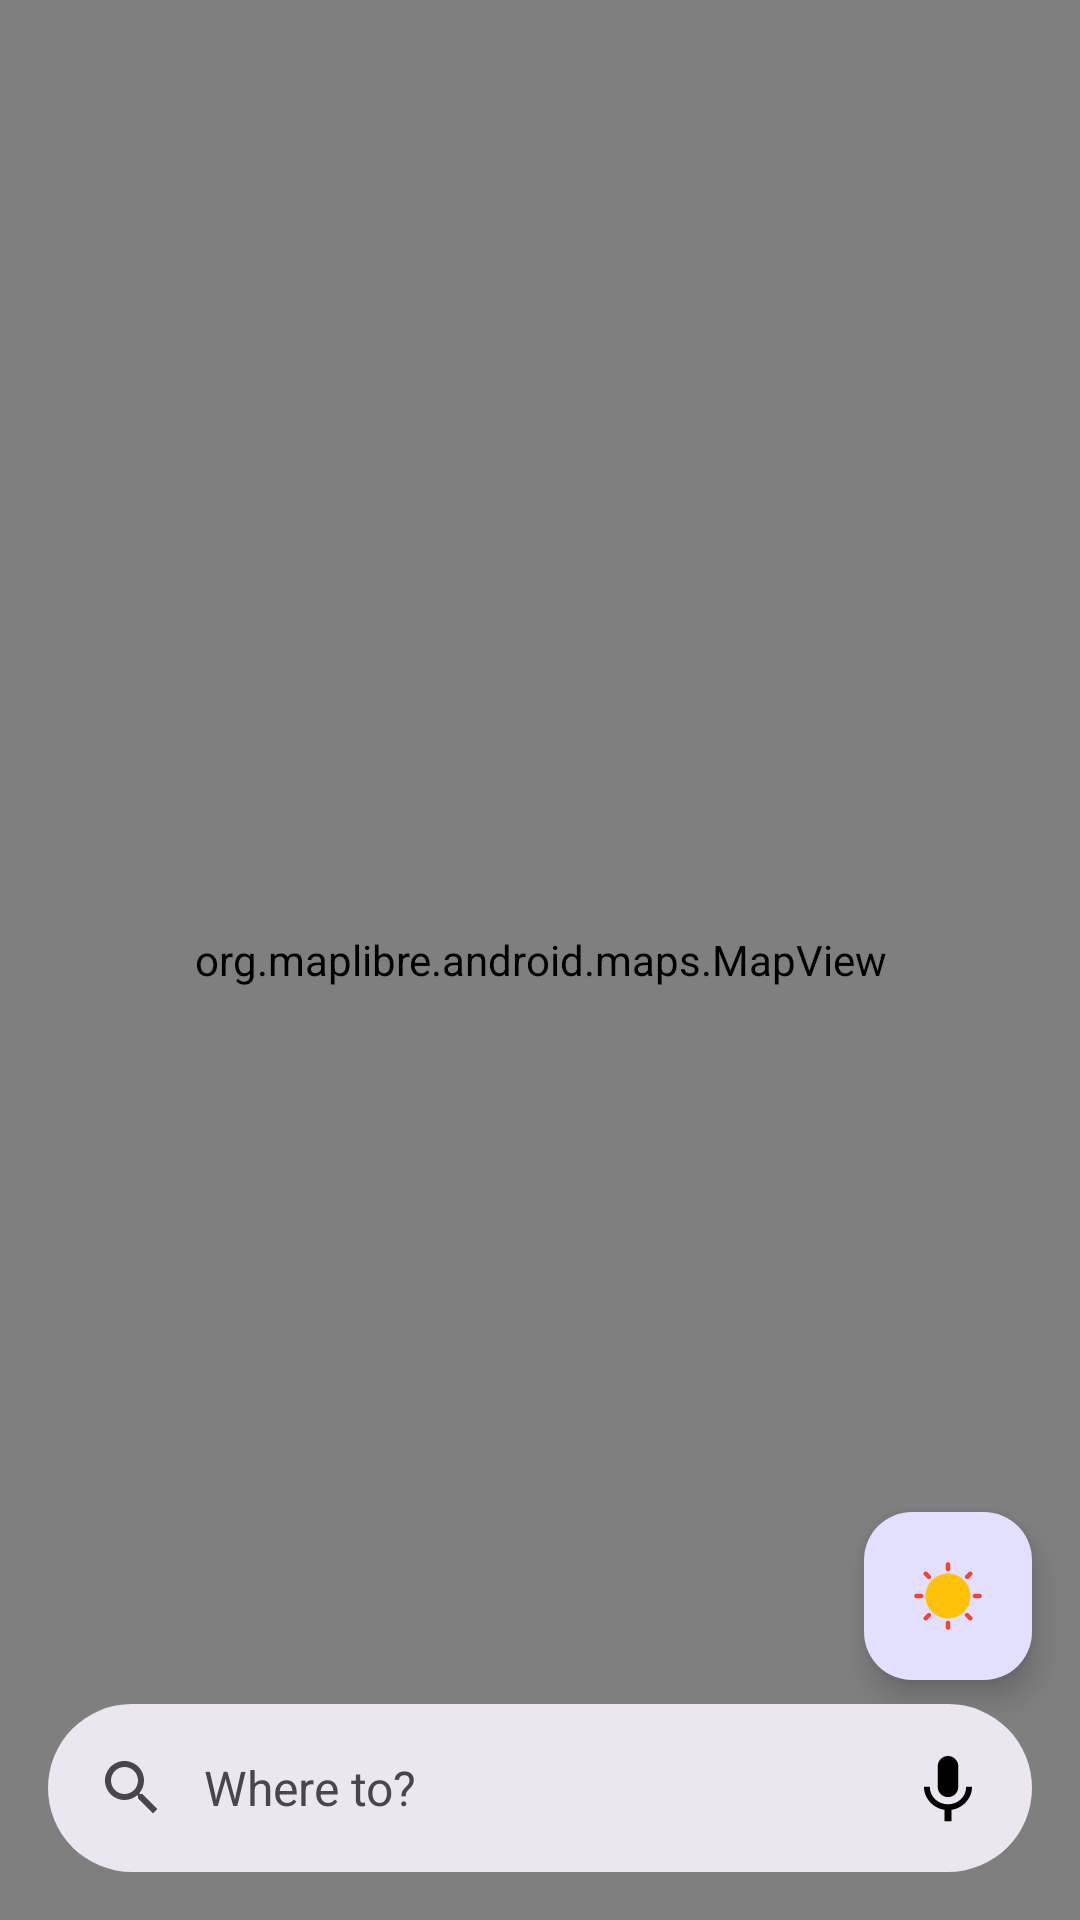

Icon click points for this 1080 × 1920 phone screenshot, format [x,y]:
See the forecast: [948,1596]
